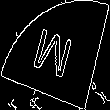M_S: (31, 24, 79, 86)
